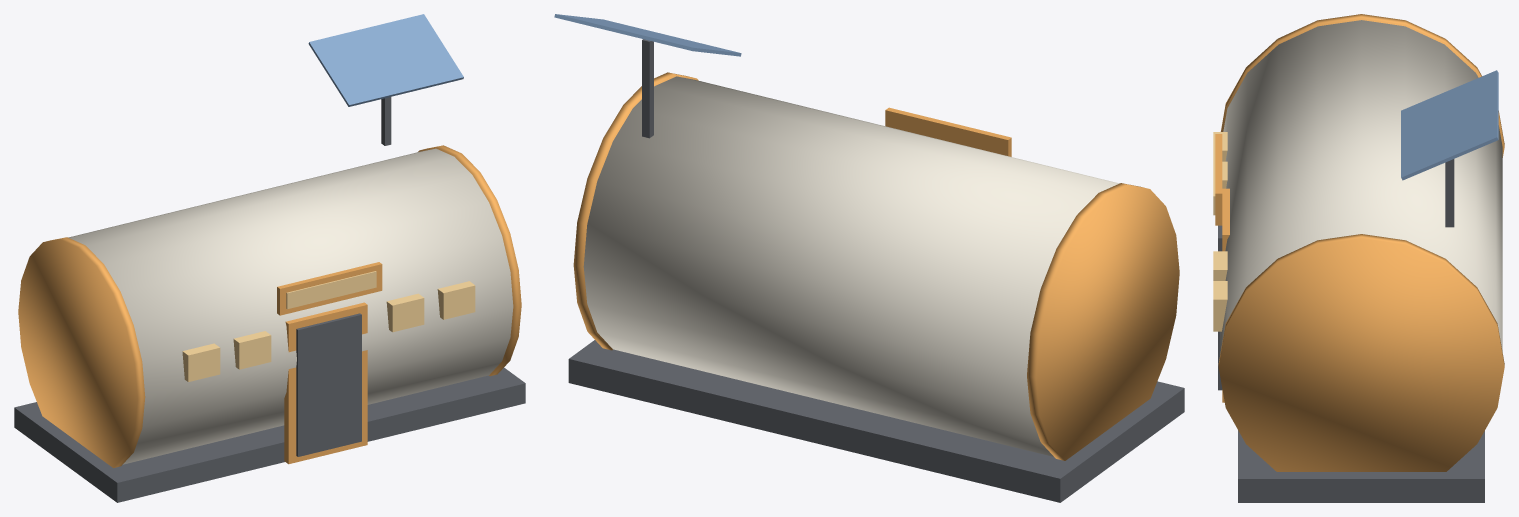
The model's file is HabModule.fbx.
3 views of the same model, side by side, from view 1: azimuth 30°, elevation 25°; view 2: azimuth 150°, elevation 25°; view 3: azimuth 270°, elevation 25° (orthographic). The views are drawn at different scales.
Visible parts, largest first — view 1: HabModule; view 2: HabModule; view 3: HabModule.
Part boxes in pixels (x1,y1,x2,y2): HabModule: (14, 14, 525, 502); HabModule: (554, 14, 1184, 502); HabModule: (1213, 14, 1504, 502).
Bounding box in the file's own units: 6.5 × 4.64 × 3.3.
